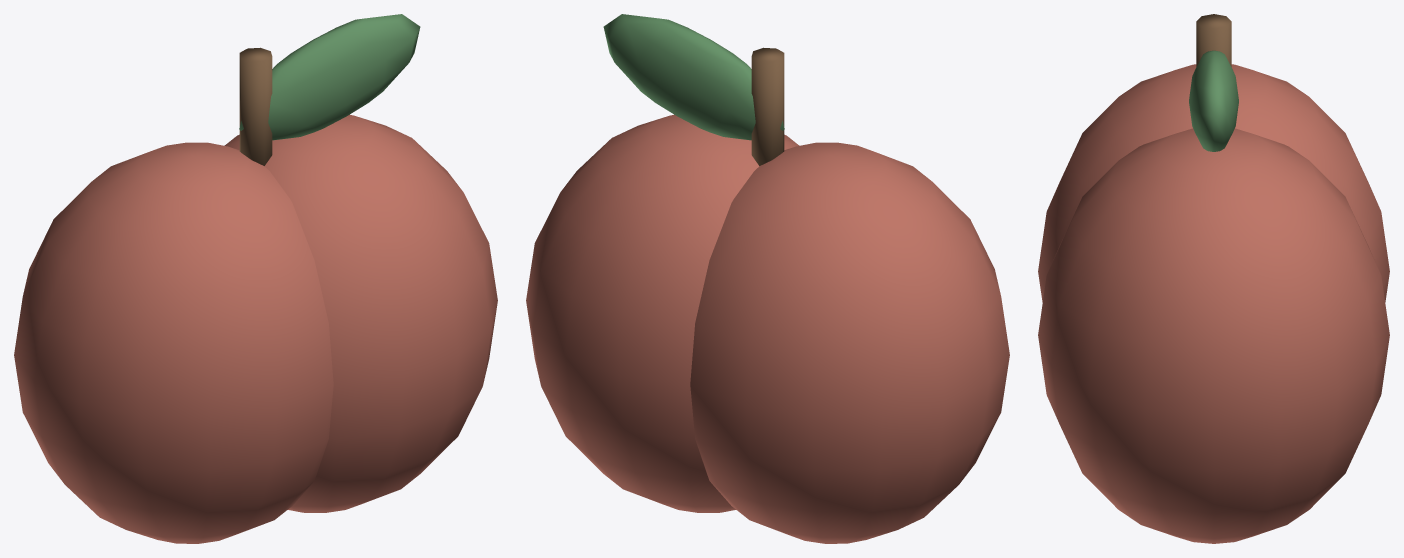
The model's file is apple.glb.
The picture shows the model from 3 angles, left to right: view 1: azimuth 30°, elevation 25°; view 2: azimuth 150°, elevation 25°; view 3: azimuth 270°, elevation 25°; orthographic projection. The views are drawn at different scales.
Parts seen in each view (by area): view 1: body; view 2: body; view 3: body.
Part boxes in pixels (<box>): body: <box>14,14,497,543</box>; body: <box>526,14,1009,543</box>; body: <box>1038,14,1389,543</box>.
Bounding box in the file's own units: 0.84 × 0.8528 × 0.56.
